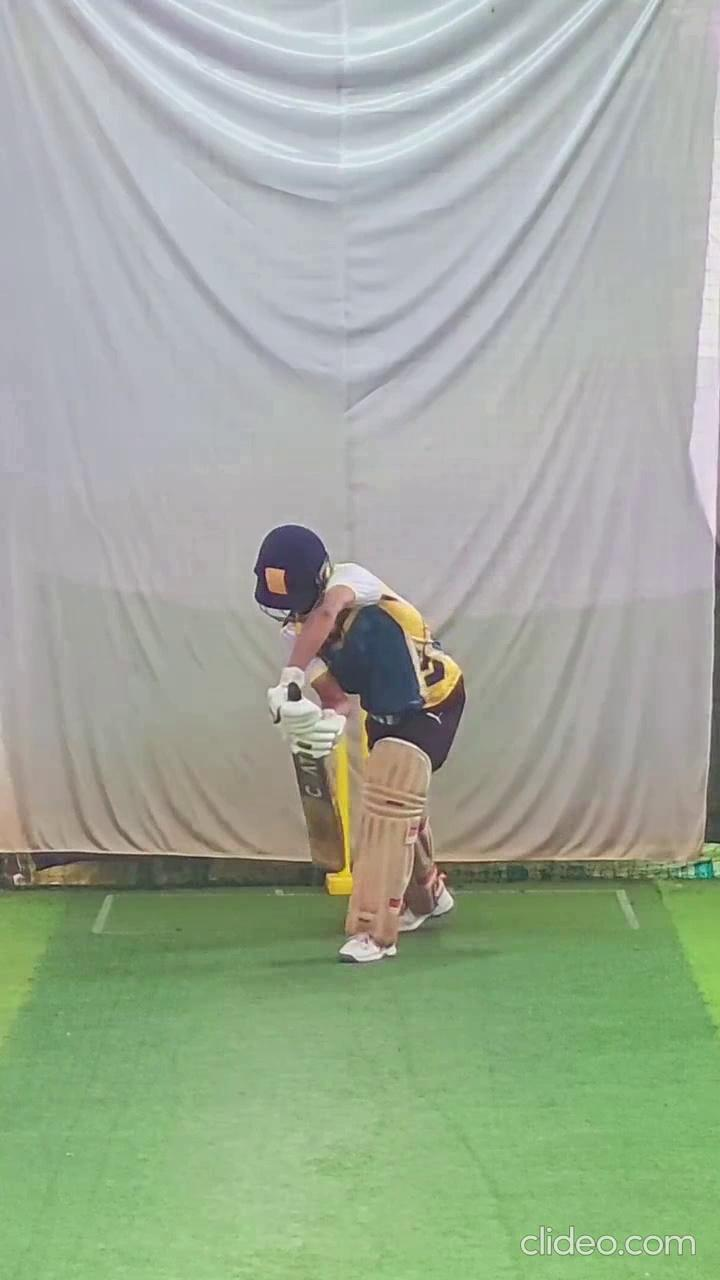bat: (290, 747, 351, 879)
